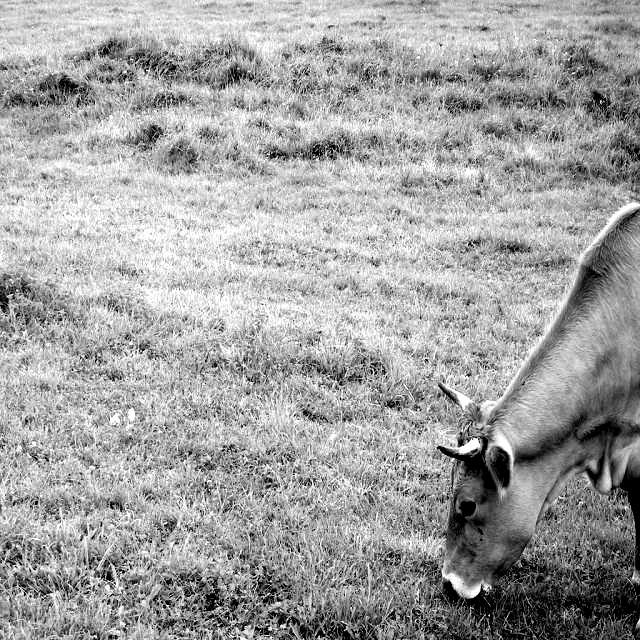COW: (439, 205, 640, 598)
